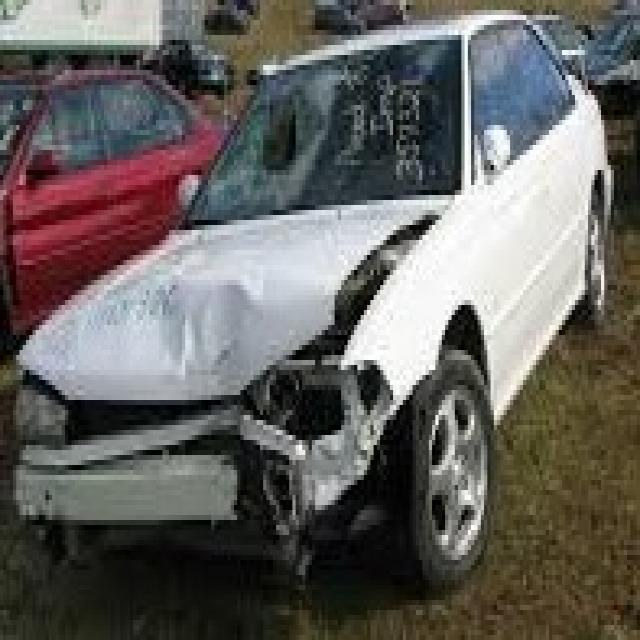severe: (19, 225, 438, 640)
